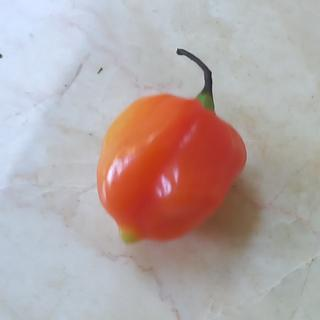Grade-B: (90, 85, 248, 250)
